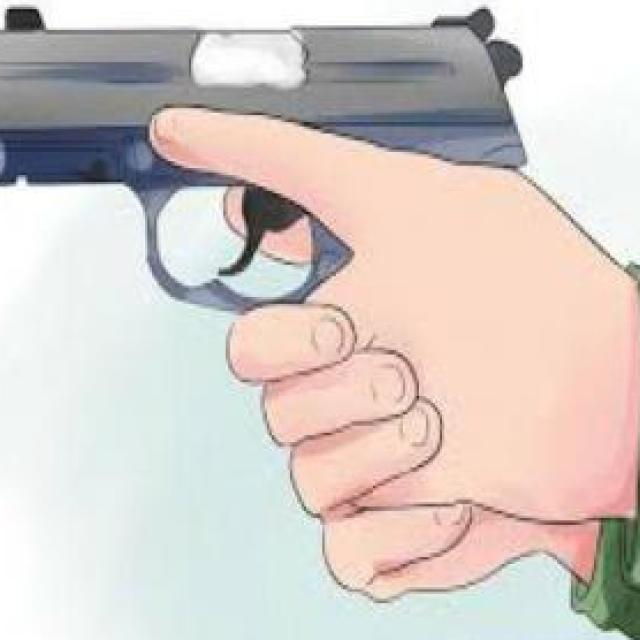pistol: (0, 0, 539, 311)
